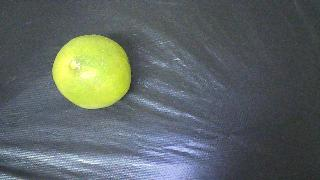LOCAL: (52, 35, 131, 109)
